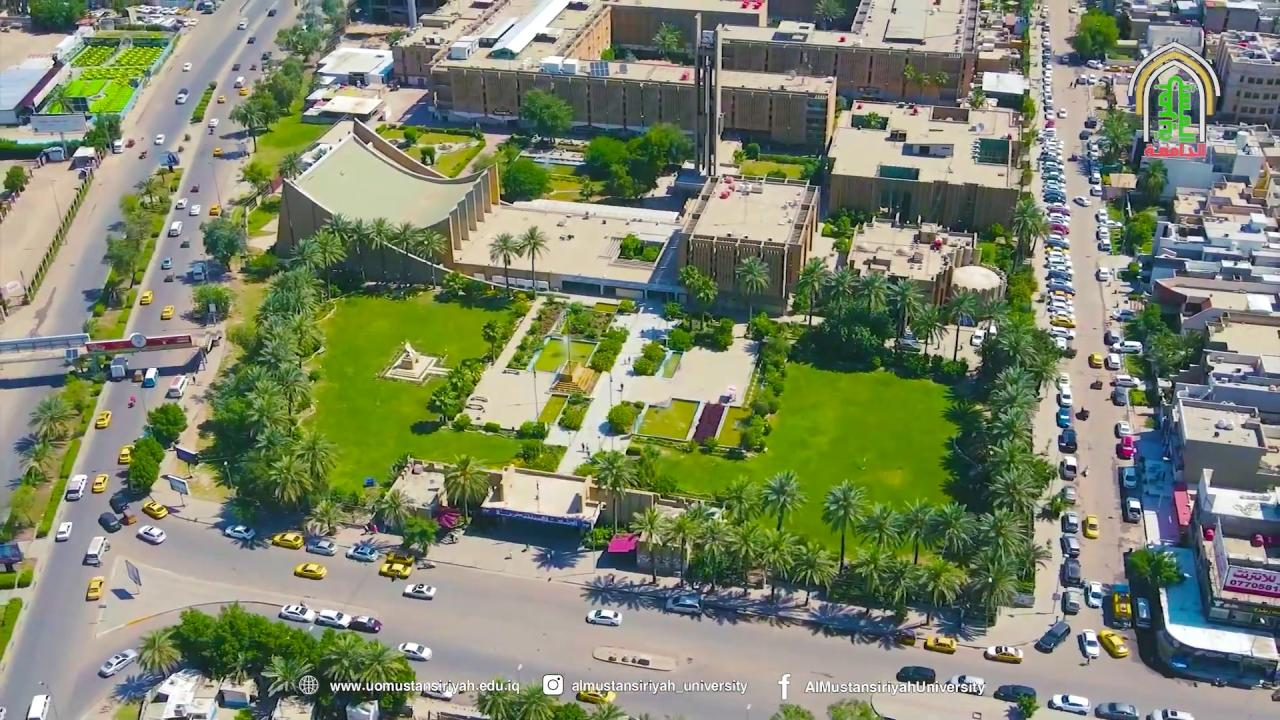car: (592, 646, 675, 671), (97, 649, 138, 678), (1034, 621, 1071, 653), (1098, 628, 1129, 659), (1047, 694, 1090, 715), (217, 688, 258, 709), (83, 536, 110, 566), (944, 676, 986, 695), (983, 644, 1023, 663), (994, 684, 1036, 702), (1094, 702, 1138, 719), (278, 603, 315, 623), (666, 594, 703, 614), (315, 609, 352, 629), (397, 641, 432, 662), (896, 666, 936, 684), (345, 700, 380, 720), (575, 689, 616, 706), (1077, 630, 1100, 660), (0, 540, 23, 570), (345, 543, 378, 563), (923, 635, 956, 654), (585, 609, 621, 626), (136, 524, 166, 544), (1145, 708, 1194, 720), (402, 583, 436, 600), (294, 562, 328, 579), (271, 532, 304, 549), (306, 538, 337, 556), (350, 615, 381, 633), (141, 500, 168, 520), (166, 374, 188, 398), (98, 512, 122, 534), (1135, 597, 1152, 628), (1124, 497, 1143, 524), (1116, 436, 1137, 460), (1060, 590, 1081, 614), (85, 578, 105, 602), (224, 525, 255, 540), (1058, 429, 1078, 452), (1059, 455, 1077, 480), (1051, 326, 1076, 343), (109, 493, 129, 514), (1047, 275, 1075, 290), (1060, 512, 1079, 533), (1120, 466, 1138, 488), (420, 688, 452, 700), (1083, 515, 1099, 539), (1049, 294, 1070, 312), (90, 473, 108, 493), (142, 368, 160, 388), (55, 521, 72, 542), (1109, 385, 1126, 406), (1091, 351, 1108, 372), (1055, 383, 1071, 405), (897, 628, 917, 645), (95, 410, 111, 429), (699, 29, 714, 48), (117, 446, 132, 465), (167, 220, 183, 237), (191, 263, 206, 281), (1061, 486, 1076, 503), (174, 88, 188, 104), (1106, 352, 1120, 368), (416, 559, 436, 570), (1215, 418, 1233, 430), (140, 290, 154, 305), (160, 305, 174, 319), (363, 521, 377, 535), (1049, 317, 1072, 325), (208, 204, 220, 216), (188, 204, 200, 216), (161, 256, 172, 268), (175, 198, 186, 209), (411, 463, 422, 474), (237, 19, 248, 29), (154, 133, 164, 144), (128, 395, 136, 408), (208, 118, 218, 128), (212, 146, 222, 156), (260, 51, 271, 60), (182, 62, 191, 71), (190, 184, 199, 193), (266, 8, 276, 16), (246, 36, 255, 43)
fountain: (0, 0, 1275, 715), (1123, 545, 1279, 688), (524, 330, 608, 376), (640, 395, 702, 445), (505, 148, 596, 178), (529, 387, 572, 427), (658, 350, 688, 378)
tree: (193, 265, 339, 526), (132, 599, 417, 719), (990, 312, 1060, 397), (984, 437, 1052, 517), (820, 478, 868, 576), (585, 448, 638, 535), (354, 638, 416, 710), (983, 364, 1038, 444), (968, 548, 1019, 628), (288, 427, 338, 504), (662, 505, 706, 588), (301, 227, 347, 302), (441, 454, 489, 524), (258, 267, 319, 322), (755, 527, 799, 602), (227, 91, 280, 153), (630, 503, 670, 585), (243, 377, 295, 439), (691, 517, 734, 591), (757, 468, 808, 530), (517, 87, 574, 142), (790, 539, 836, 606), (892, 496, 936, 565), (932, 500, 978, 566), (851, 542, 893, 614), (269, 361, 313, 428), (913, 556, 967, 610), (733, 255, 771, 330), (252, 61, 304, 115), (582, 135, 628, 194), (639, 120, 692, 171), (727, 520, 764, 593), (976, 507, 1026, 561), (27, 393, 79, 444), (944, 286, 979, 361), (516, 224, 550, 300), (1010, 193, 1044, 269), (104, 232, 150, 288), (794, 256, 830, 327), (11, 432, 58, 486), (498, 158, 553, 204), (280, 311, 324, 368), (1127, 545, 1182, 590), (259, 653, 315, 696), (200, 216, 243, 272), (135, 627, 182, 678), (716, 473, 761, 526), (1075, 8, 1119, 61), (909, 301, 948, 360), (273, 21, 329, 62), (855, 501, 900, 552), (488, 232, 522, 298), (888, 277, 923, 341), (126, 435, 165, 492), (1097, 103, 1133, 162), (413, 228, 448, 288), (189, 281, 236, 324), (145, 401, 187, 449), (365, 215, 396, 279), (371, 487, 415, 532), (390, 220, 422, 281), (822, 264, 856, 321), (304, 497, 352, 537), (474, 678, 519, 719), (236, 158, 273, 205), (853, 270, 890, 317), (677, 263, 718, 305), (731, 409, 770, 453), (1015, 537, 1053, 582), (28, 0, 88, 28), (400, 514, 439, 557), (1121, 211, 1154, 256), (428, 384, 463, 426), (633, 441, 662, 491), (480, 317, 509, 364), (650, 20, 682, 61), (7, 484, 36, 528), (1142, 158, 1168, 205), (631, 341, 665, 375), (558, 404, 586, 445), (826, 697, 878, 719), (605, 401, 638, 434), (902, 63, 932, 98), (813, 0, 846, 30), (83, 126, 110, 159), (277, 150, 303, 181), (768, 703, 815, 719), (587, 348, 617, 373), (3, 165, 27, 196), (1016, 691, 1040, 719), (618, 232, 642, 259), (389, 452, 412, 479), (1020, 89, 1037, 124), (577, 175, 598, 202), (933, 70, 949, 100), (967, 84, 986, 109), (743, 141, 761, 162)
